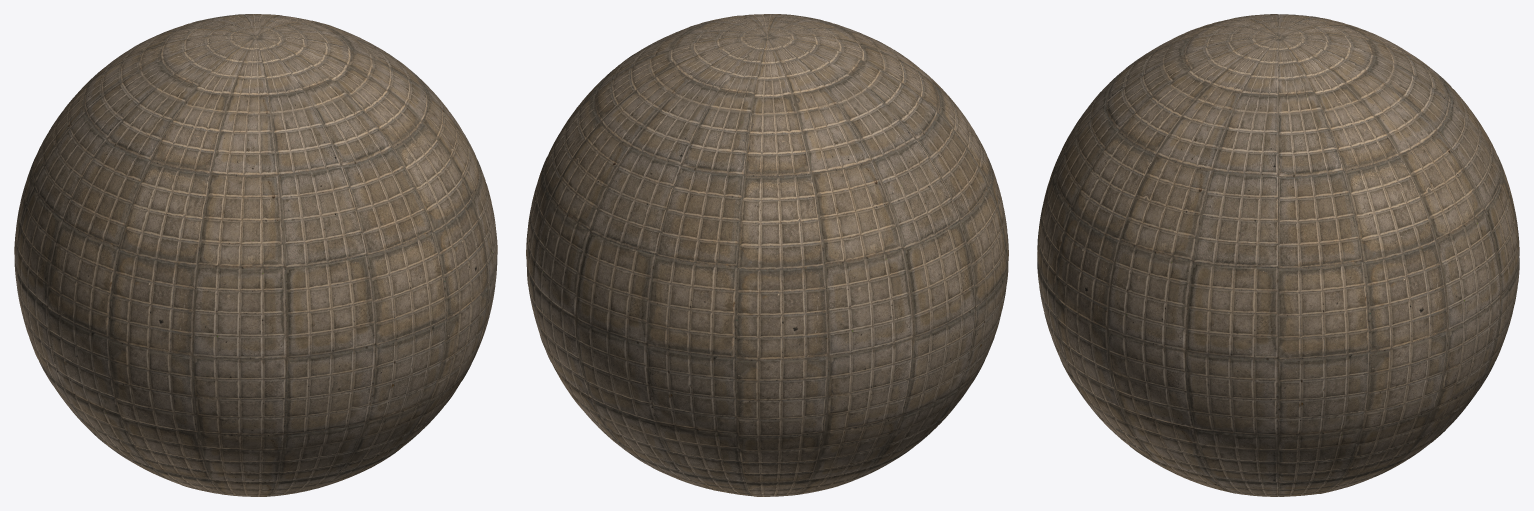
Rendered from floor_tiles_09_1k.gltf.
The picture shows the model from 3 angles, left to right: view 1: azimuth 30°, elevation 25°; view 2: azimuth 150°, elevation 25°; view 3: azimuth 270°, elevation 25°; orthographic projection.
Parts seen in each view (by area): view 1: sphere_gltf; view 2: sphere_gltf; view 3: sphere_gltf.
Part boxes in pixels (bbox=[...]): sphere_gltf: bbox=[14, 14, 497, 496]; sphere_gltf: bbox=[526, 14, 1008, 496]; sphere_gltf: bbox=[1037, 14, 1519, 496].
Size of the model in its own units: 2 by 2.01 by 2.
Materials: 1 (1 with a texture image).
